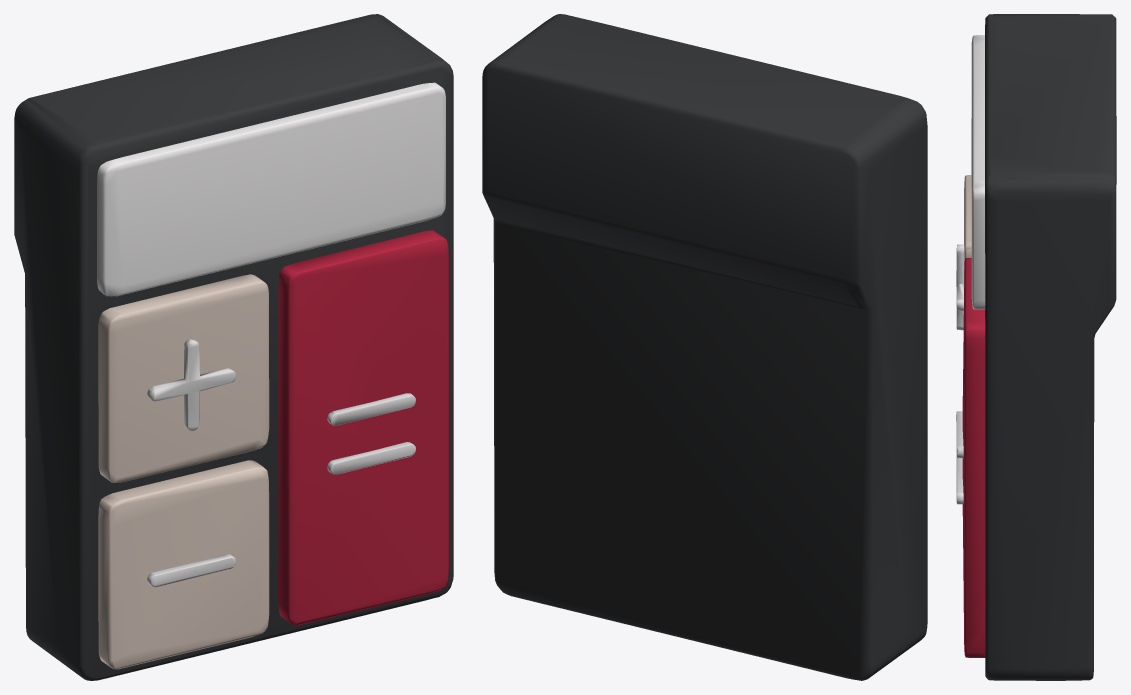
Rendered from calculator.glb.
3 renders of one model, left to right at view 1: azimuth 30°, elevation 25°; view 2: azimuth 150°, elevation 25°; view 3: azimuth 270°, elevation 25°, orthographic. The views are drawn at different scales.
Visible parts, largest first — view 1: Calculator; view 2: Calculator; view 3: Calculator.
Boxes of the visible parts, <box> form: Calculator: <box>14,14,453,680</box>; Calculator: <box>482,14,927,680</box>; Calculator: <box>956,14,1116,680</box>.
Bounding box in the file's own units: 1.41 × 1.93 × 0.5535.
Materials: 4 (4 with a texture image).
